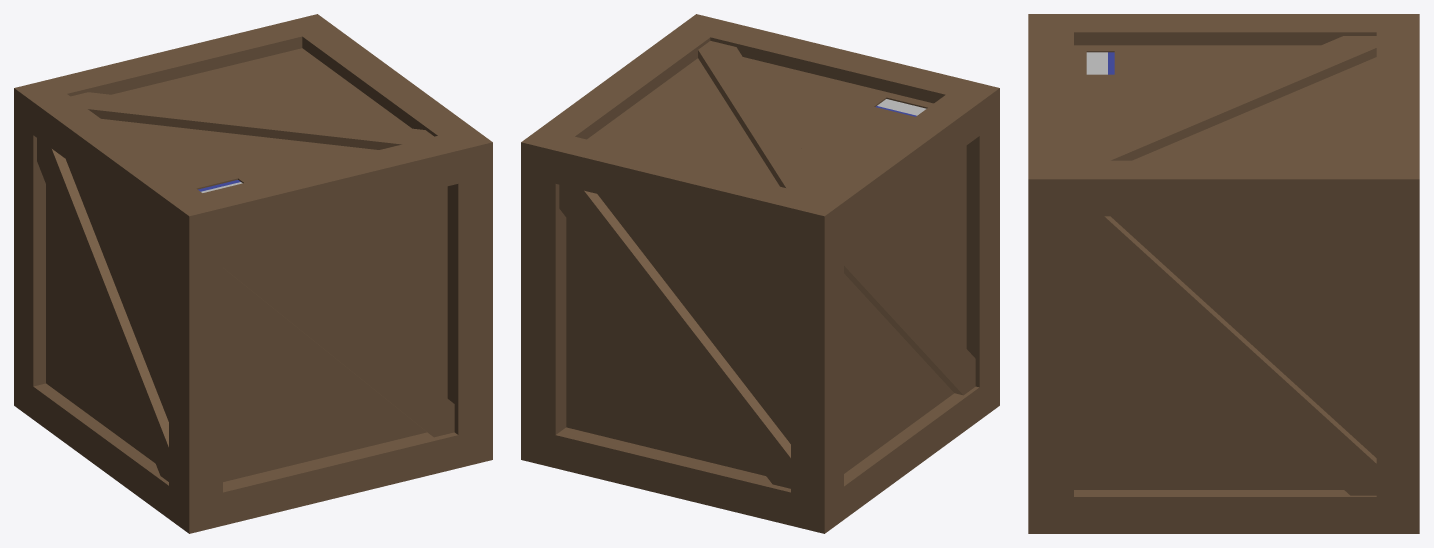
3 views of the same model, side by side, from view 1: azimuth 30°, elevation 25°; view 2: azimuth 150°, elevation 25°; view 3: azimuth 270°, elevation 25° (orthographic). The views are drawn at different scales.
Parts seen in each view (by area): view 1: Box1_LOD0; view 2: Box1_LOD0; view 3: Box1_LOD0.
Part boxes in pixels (box(x1,y1,x2,y2)): Box1_LOD0: box(14, 14, 492, 533); Box1_LOD0: box(521, 14, 999, 533); Box1_LOD0: box(1028, 14, 1419, 533).
Size of what is drawn, in the model's own units: 286 by 286 by 286.
1 material, 1 textured.
